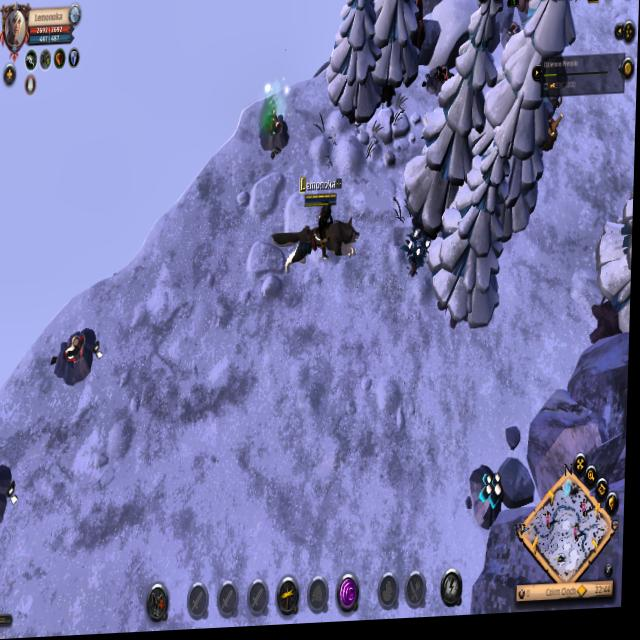fiber tier 4: (404, 234, 432, 287)
ore tier 4: (469, 468, 508, 536)
